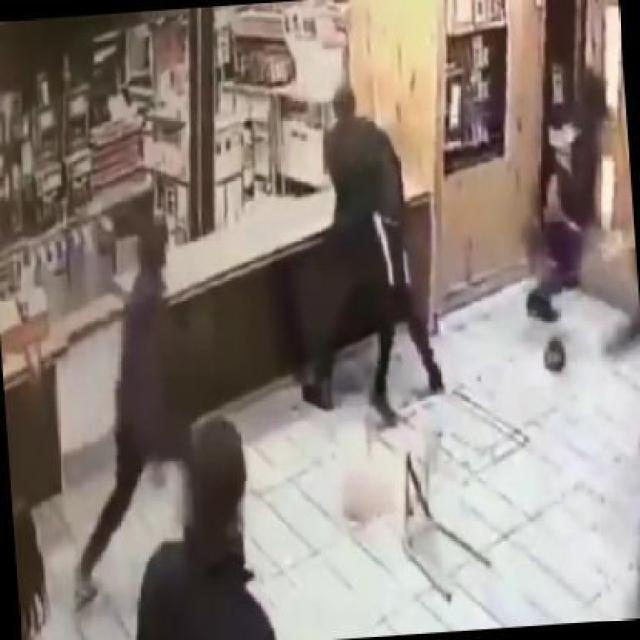fight: (313, 84, 416, 404)
